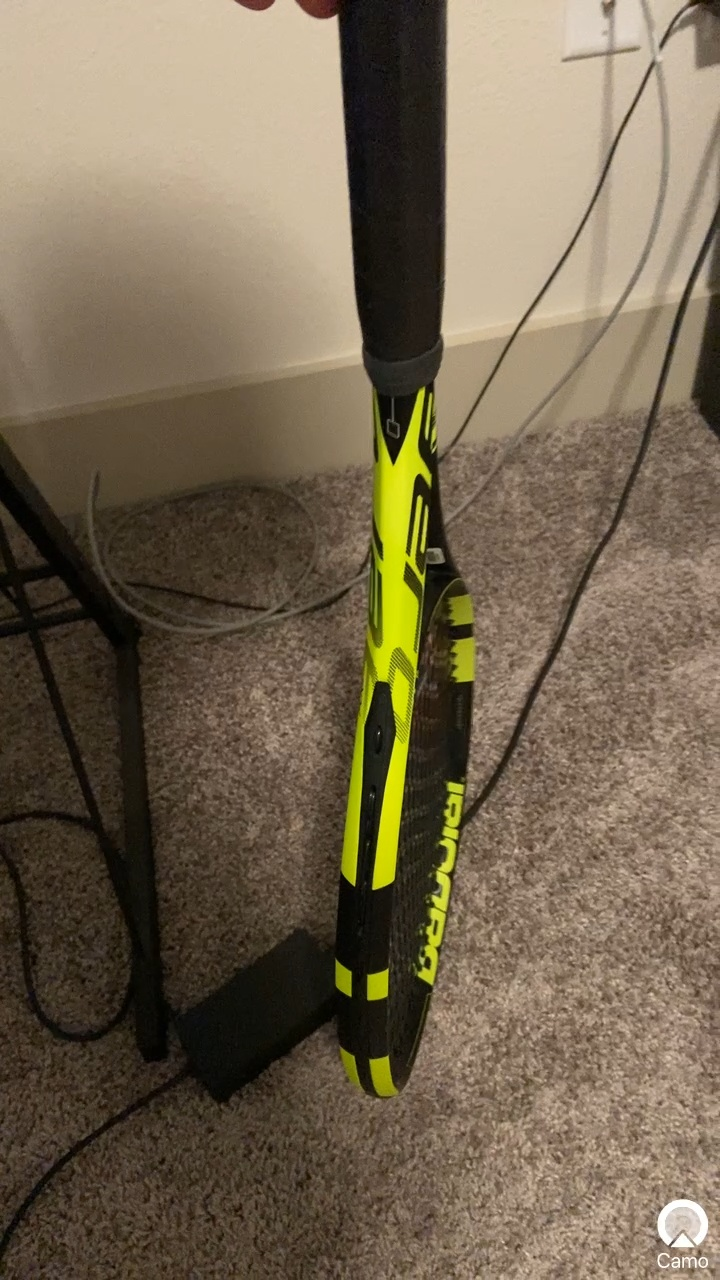Tennis_Racquet: (253, 1, 557, 1156)
